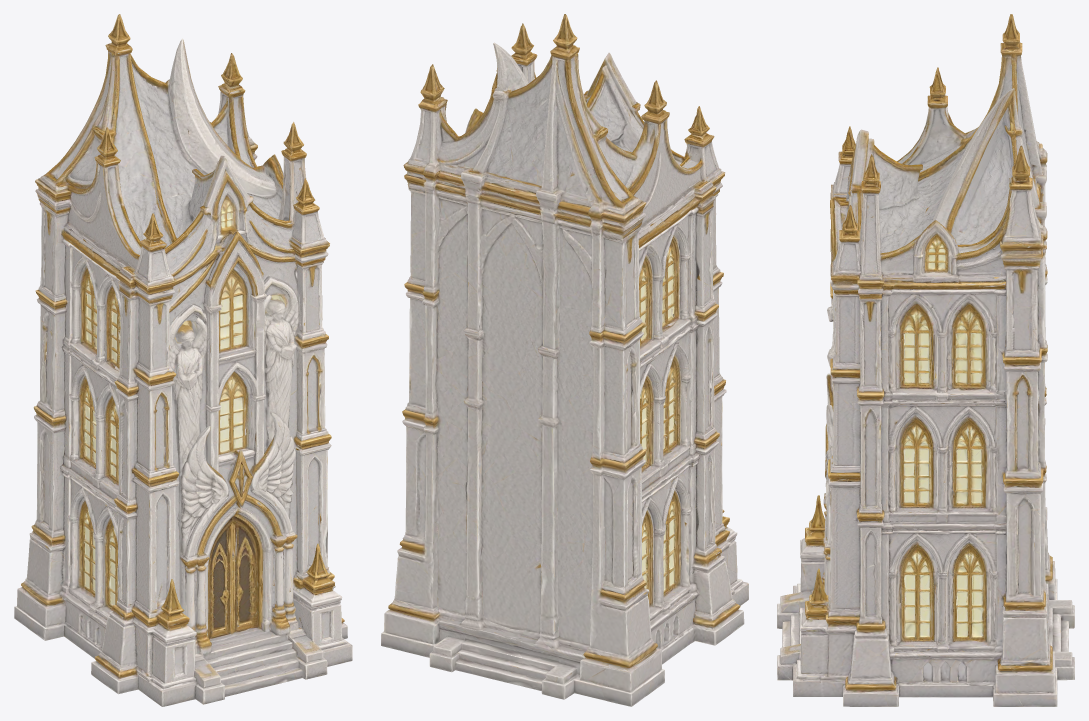
The model's file is sq-angel2.glb.
The picture shows the model from 3 angles, left to right: view 1: azimuth 30°, elevation 25°; view 2: azimuth 150°, elevation 25°; view 3: azimuth 270°, elevation 25°; orthographic projection. The views are drawn at different scales.
Visible parts, largest first — view 1: lod0; view 2: lod0; view 3: lod0.
Boxes of the visible parts, bbox=[...] form: lod0: bbox=[14, 14, 352, 706]; lod0: bbox=[381, 14, 748, 706]; lod0: bbox=[777, 14, 1074, 706].
Size of what is drawn, in the model's own units: 0.764 by 1.9 by 0.8281.
Materials: 1 (1 with a texture image).
